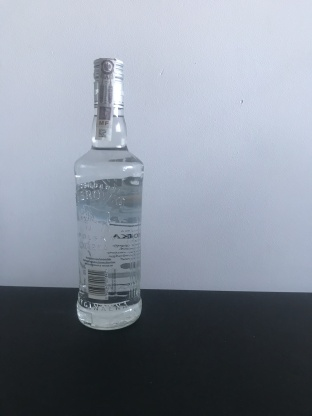nakretka: (90, 52, 126, 111)
